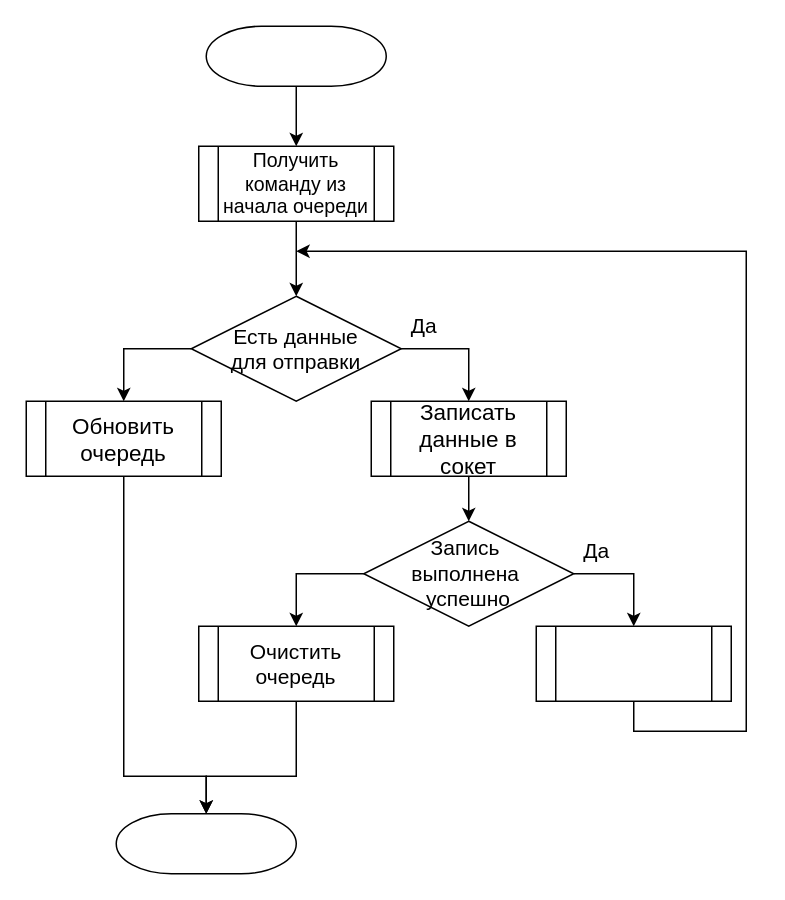
The diagram is 785 pixels wide and 900 high, and some of its shapes have lost their labels. The shapes that lost their labels are listed below. From the top down, each one's centre as x and y in pixels, then its label:
(x=295, y=55): Начало
(x=633, y=663): Перейти к следующим данным
(x=205, y=843): Конец
